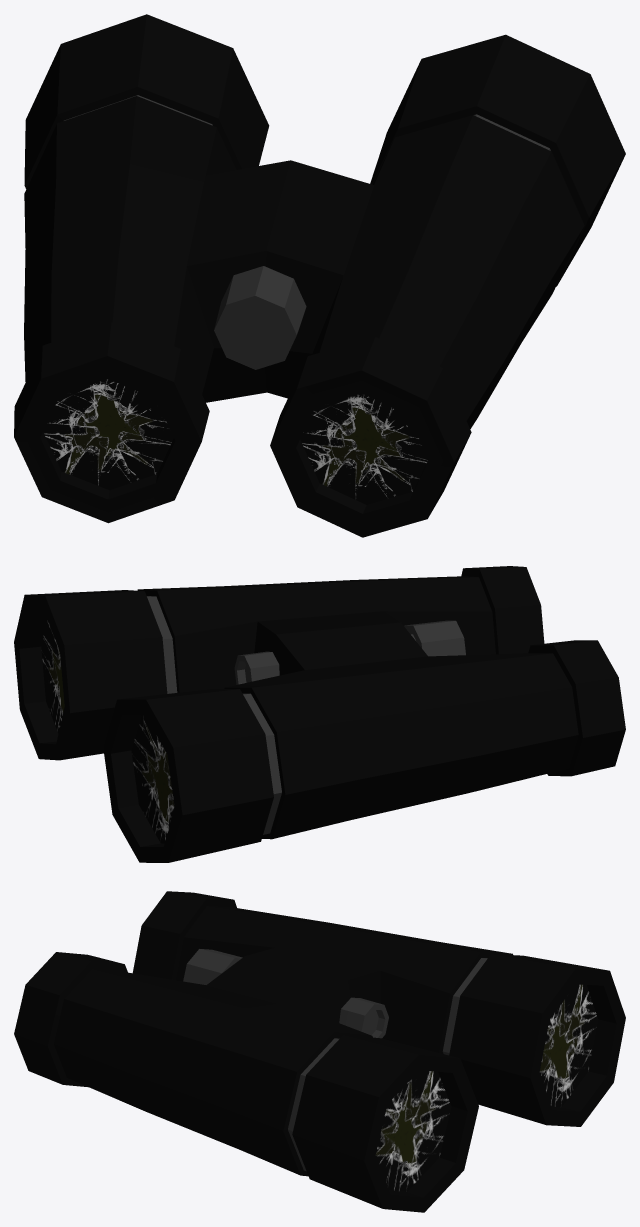
File: binoculars_01.fbx
3 renders of one model, top to bottom at view 1: azimuth 30°, elevation 25°; view 2: azimuth 150°, elevation 25°; view 3: azimuth 270°, elevation 25°, orthographic. The views are drawn at different scales.
Visible parts, largest first — view 1: binoculars_01; view 2: binoculars_01; view 3: binoculars_01.
Boxes of the visible parts, x1,y1,x2,y2 form: binoculars_01: (14, 14, 625, 537); binoculars_01: (14, 566, 625, 862); binoculars_01: (14, 891, 625, 1212).
Bounding box in the file's own units: 19.12 × 5.59 × 19.79.
1 material, 1 textured.
